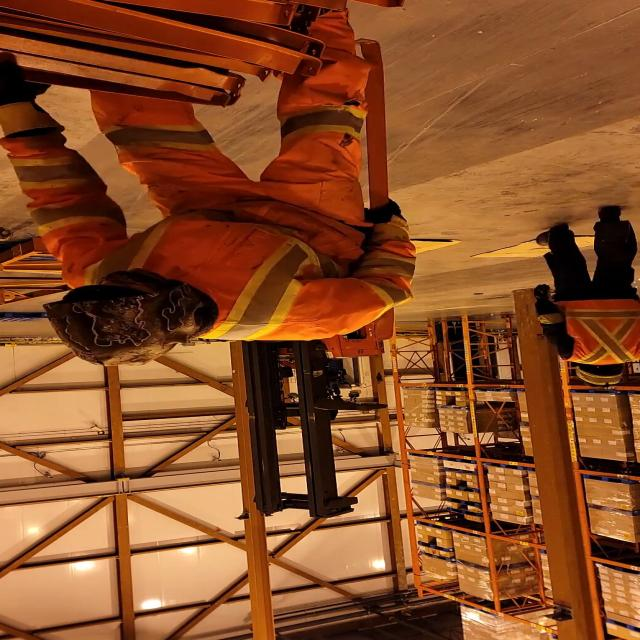forklift: (170, 281, 384, 510)
human: (0, 42, 421, 376), (510, 205, 640, 388)
objectofinterest: (471, 234, 630, 262), (0, 239, 60, 310), (326, 236, 458, 266), (0, 312, 55, 326)
